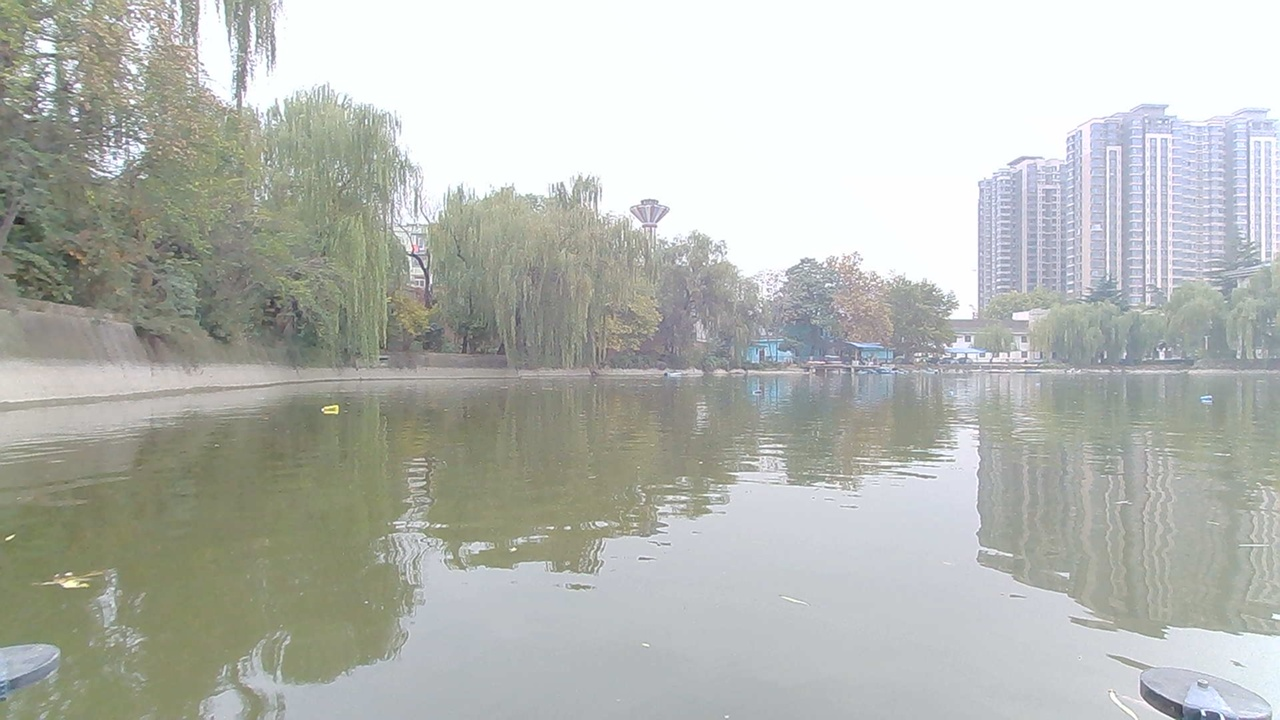bottle: (315, 397, 349, 420), (1194, 390, 1225, 413), (745, 385, 774, 400)
